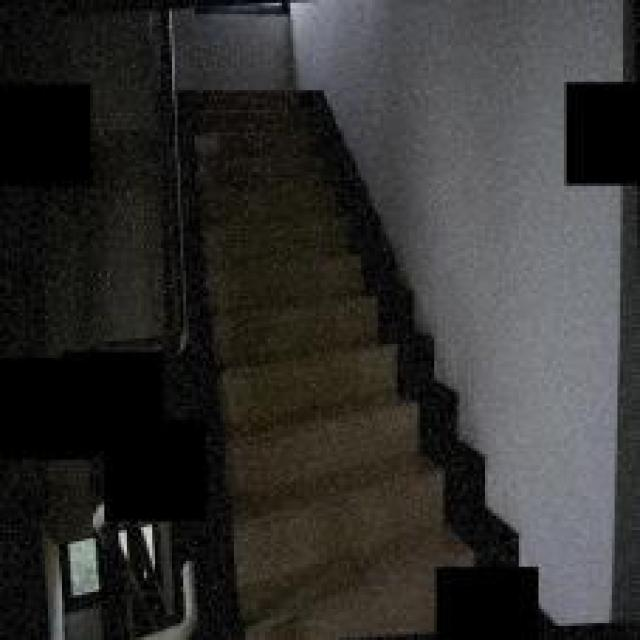upstair: (221, 204, 401, 602)
